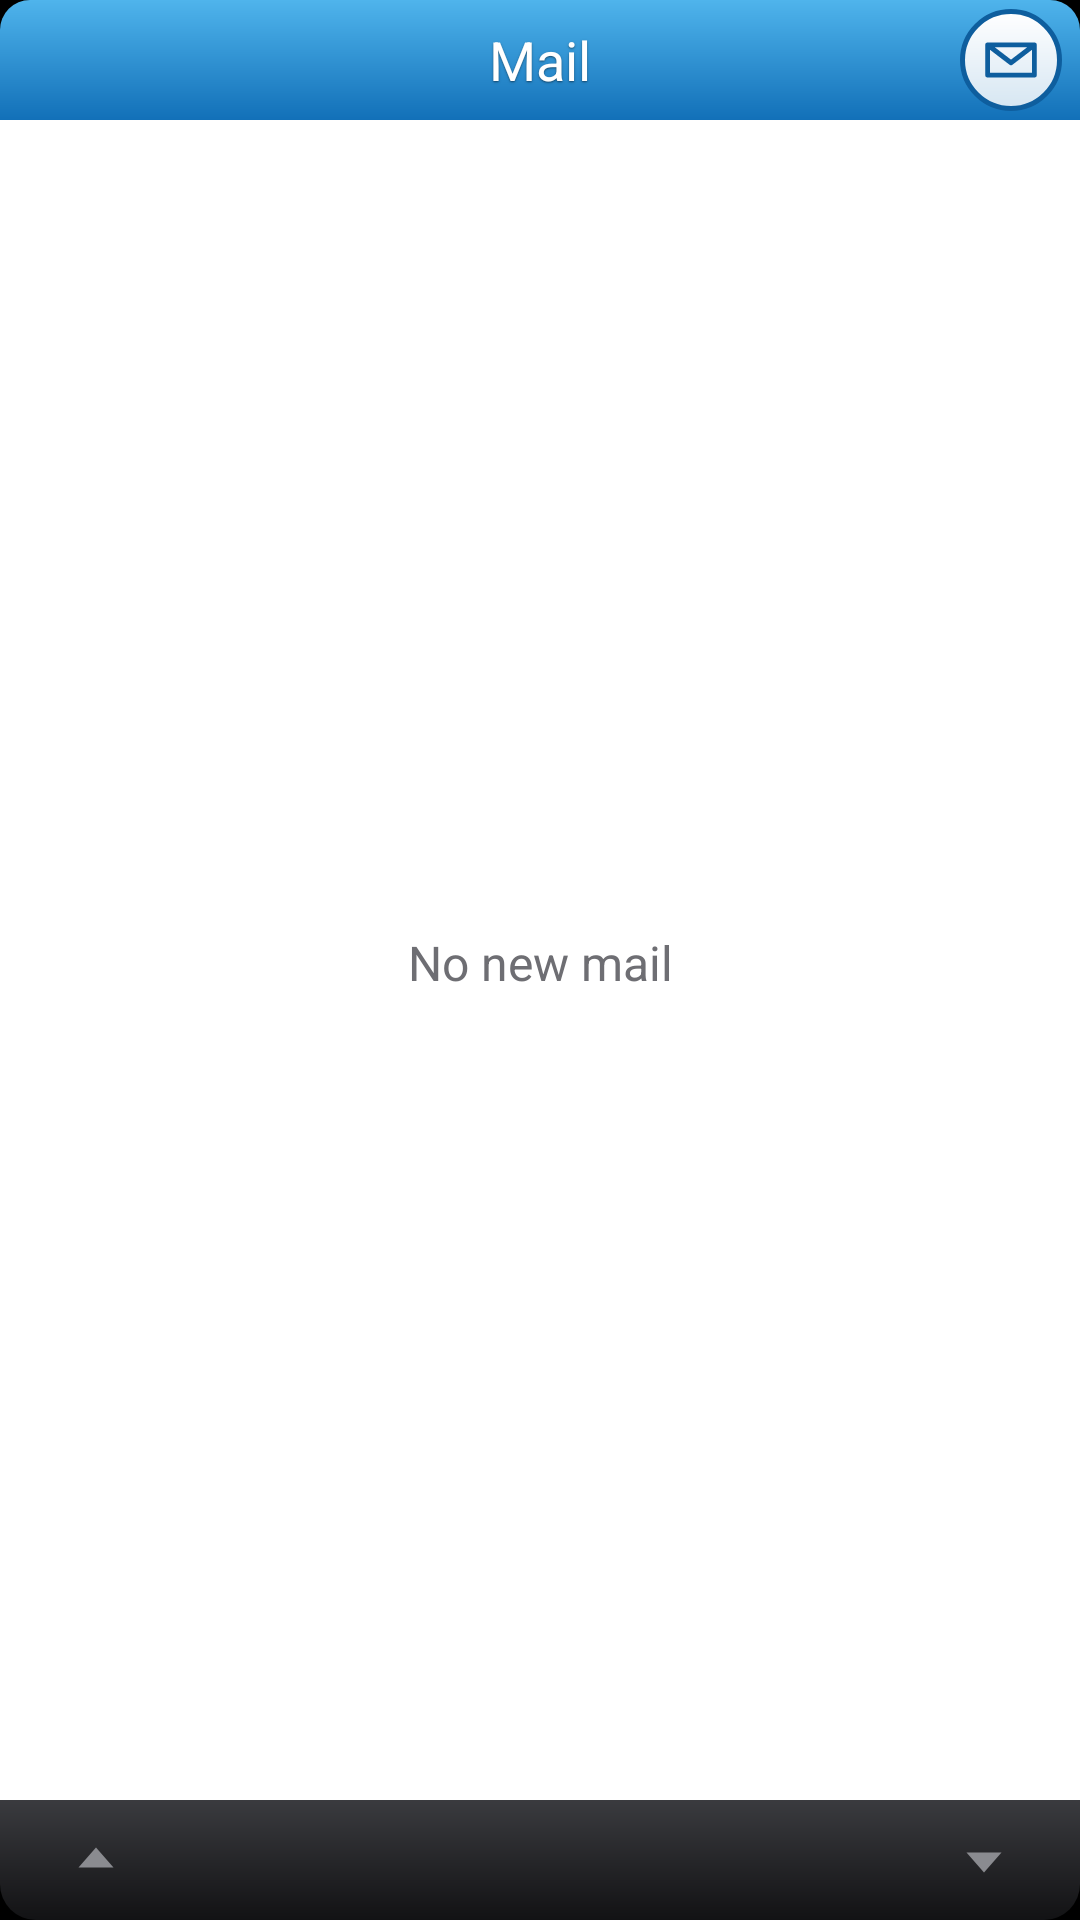

Icons on this 1080×1920 Android screen, each with the point to tap as point (x, y):
Newer mail: point (96, 1860)
Older mail: point (984, 1860)
